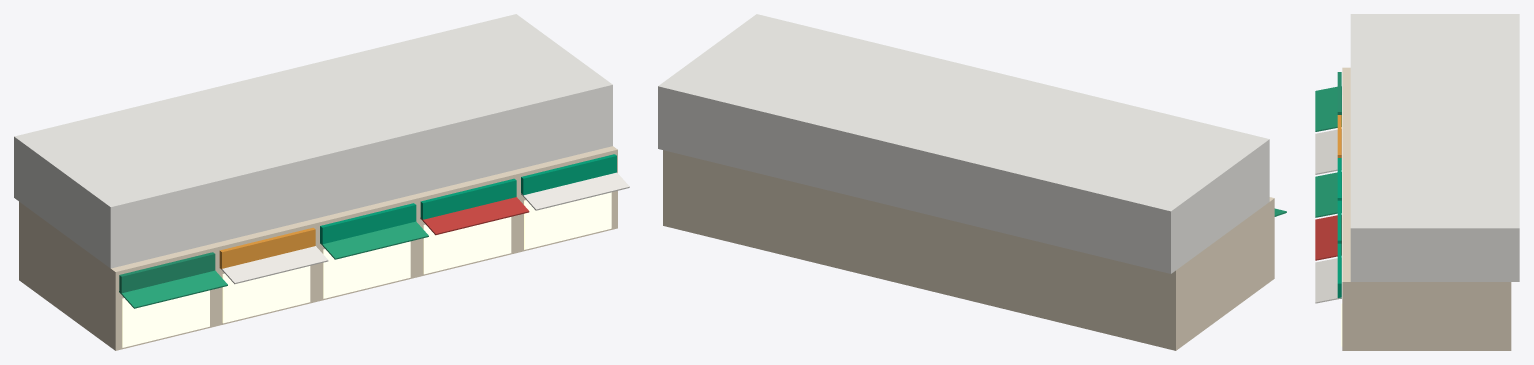
The model's file is SM_ShopRow.fbx.
The picture shows the model from 3 angles, left to right: view 1: azimuth 30°, elevation 25°; view 2: azimuth 150°, elevation 25°; view 3: azimuth 270°, elevation 25°; orthographic projection. The views are drawn at different scales.
Parts seen in each view (by area): view 1: SM_ShopRow; view 2: SM_ShopRow; view 3: SM_ShopRow.
Boxes of the visible parts, left/top/right/bottom form: SM_ShopRow: left=14, top=14, right=629, bottom=350; SM_ShopRow: left=658, top=14, right=1286, bottom=350; SM_ShopRow: left=1315, top=14, right=1519, bottom=350.
Bounding box in the file's own units: 3000 × 800 × 1209.
